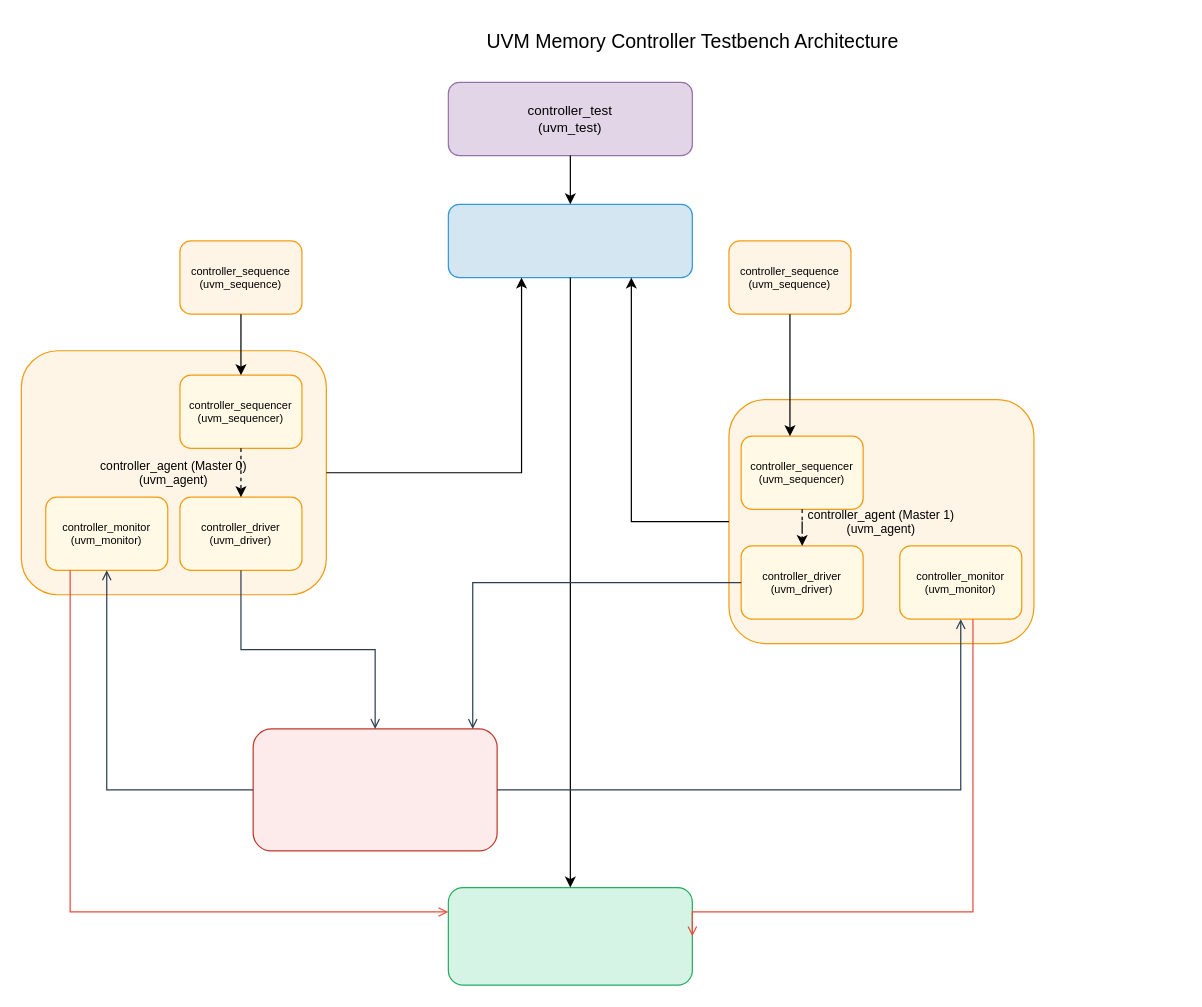
The diagram is 1202 pixels wide and 1007 high, and some of its shapes have lost their labels. The shapes that lost their labels are listed below. From the top down, each one's centre as x and y in pixels, then its label:
At [569,240]: "controller_env (uvm_env)".
At [374,789]: "simple_mem_ctrl (DUT)".
At [569,935]: "controller_scoreboard (uvm_scoreboard) [Golden Model]".
